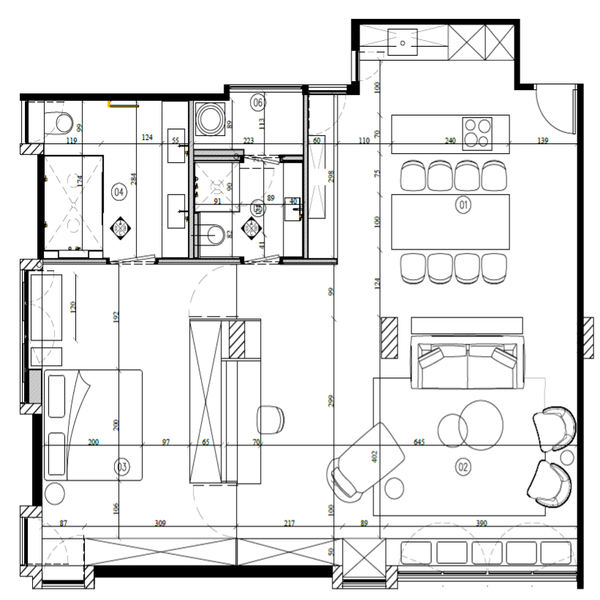door: (529, 83, 583, 141)
room: (344, 15, 593, 600), (13, 264, 339, 584), (19, 85, 194, 261), (187, 82, 313, 265)
wall: (574, 84, 587, 594), (86, 564, 329, 581), (16, 91, 237, 101), (301, 91, 313, 258), (187, 98, 198, 259), (352, 16, 517, 25), (35, 160, 47, 262), (27, 416, 39, 506), (159, 254, 244, 266), (282, 254, 342, 267), (351, 23, 361, 94), (513, 19, 521, 90)
